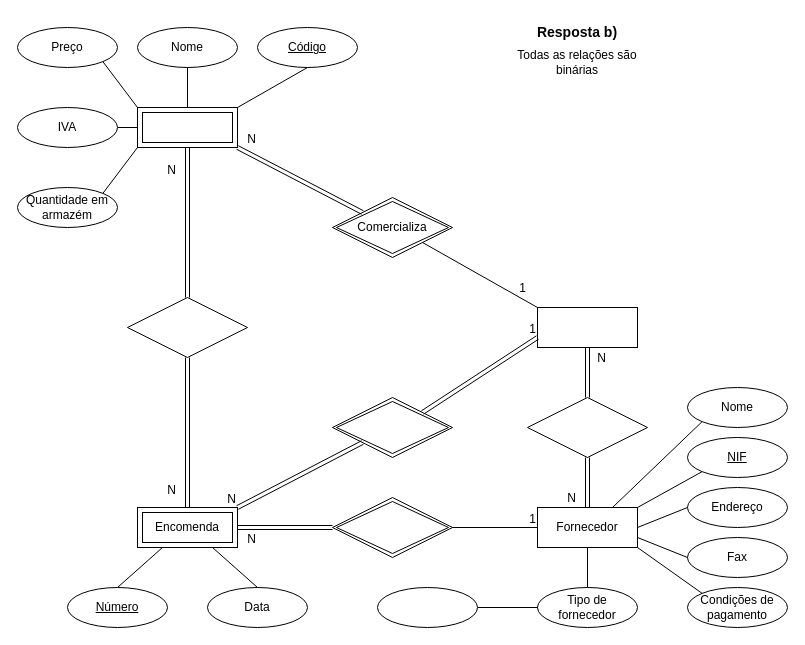
The diagram is 805 pixels wide and 645 high, and some of its shapes have lost their labels. The box of each missing label's shape, as (x1, y1, x2, y2) in pixels:
Contém: (126, 296, 248, 358)
Código interno: (376, 586, 478, 628)
Empresa: (536, 306, 638, 348)
Faz: (332, 396, 452, 458)
Fornece: (526, 396, 648, 458)
Produto: (136, 106, 238, 148)
Tem: (332, 496, 452, 558)
